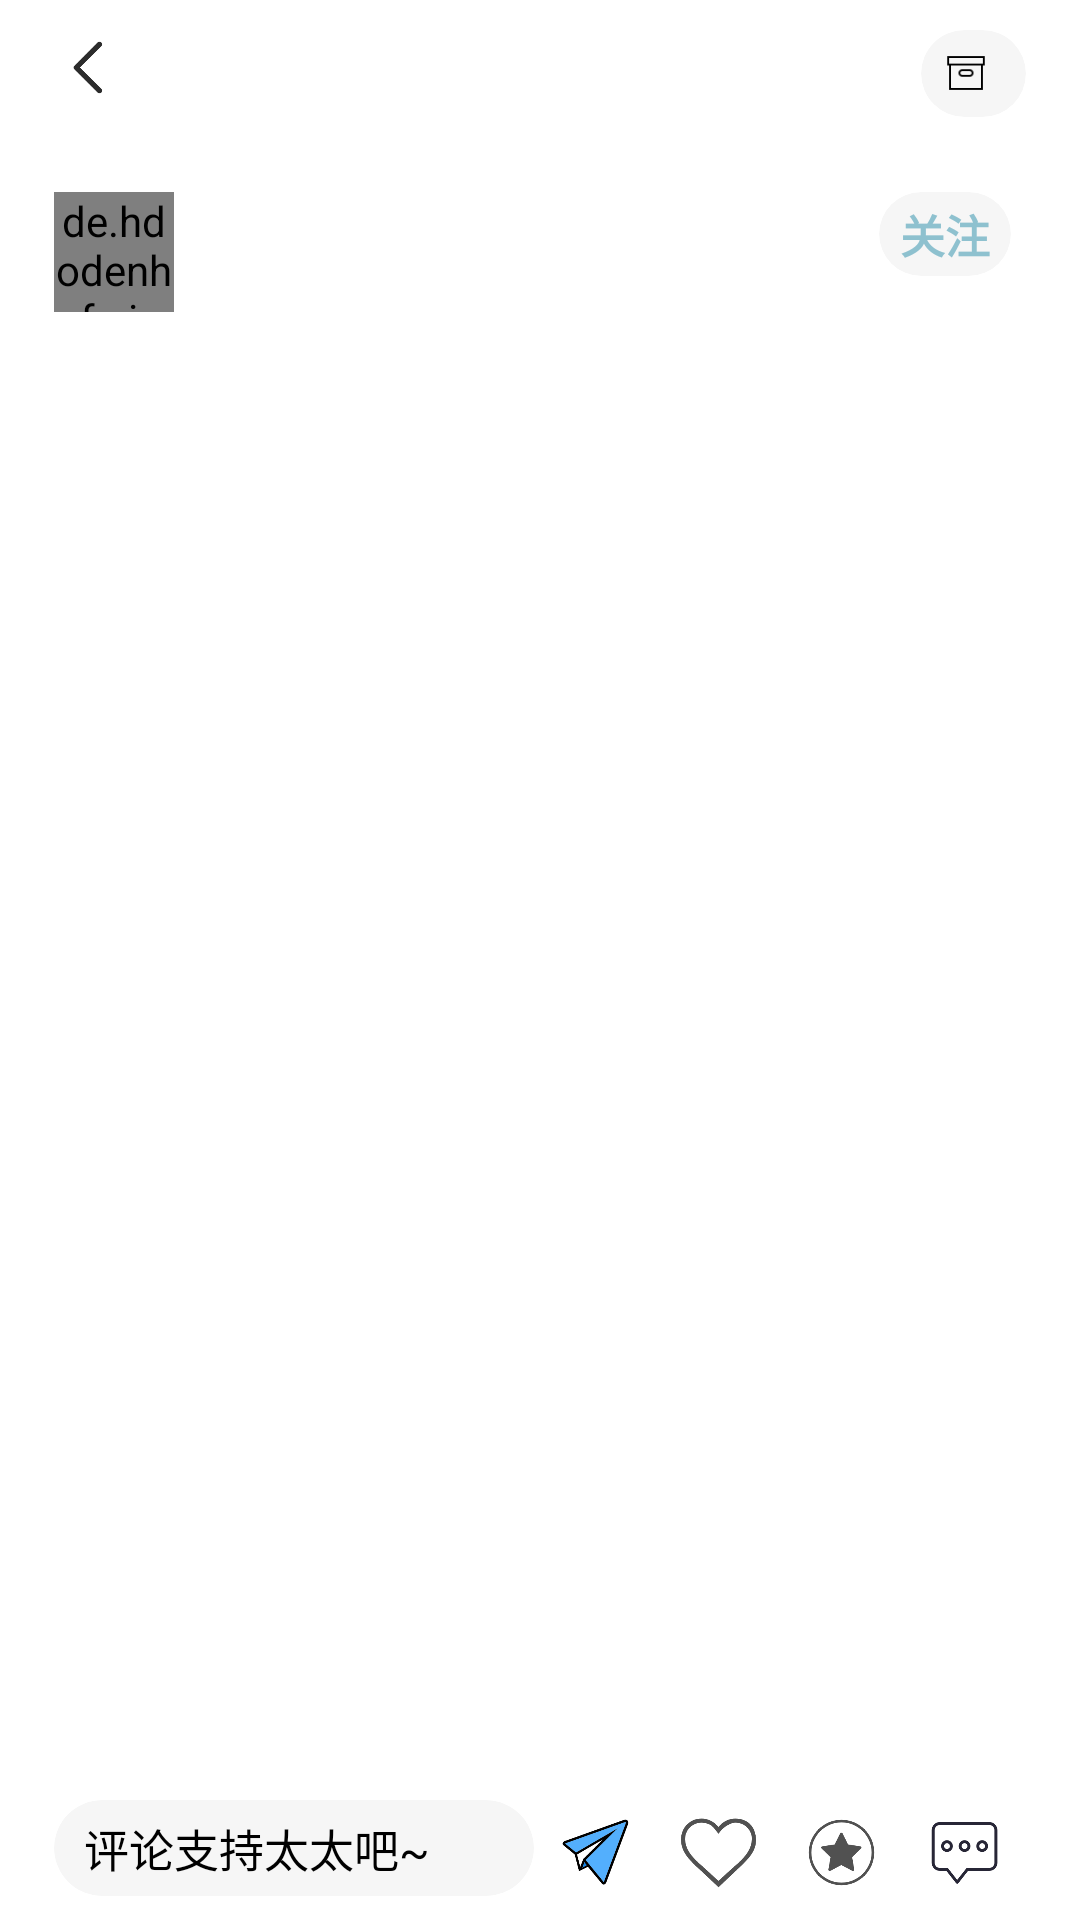

Icons on this 1080px x 1920px Android screen, each with its box as [left=x1, top=y1, right=x2, bottom=y2]:
best back: [left=73, top=42, right=102, bottom=93]
collect: [left=809, top=1820, right=874, bottom=1885]
like: [left=681, top=1818, right=756, bottom=1887]
sendcomment: [left=562, top=1819, right=629, bottom=1885]
thepinglun: [left=931, top=1822, right=998, bottom=1884]
